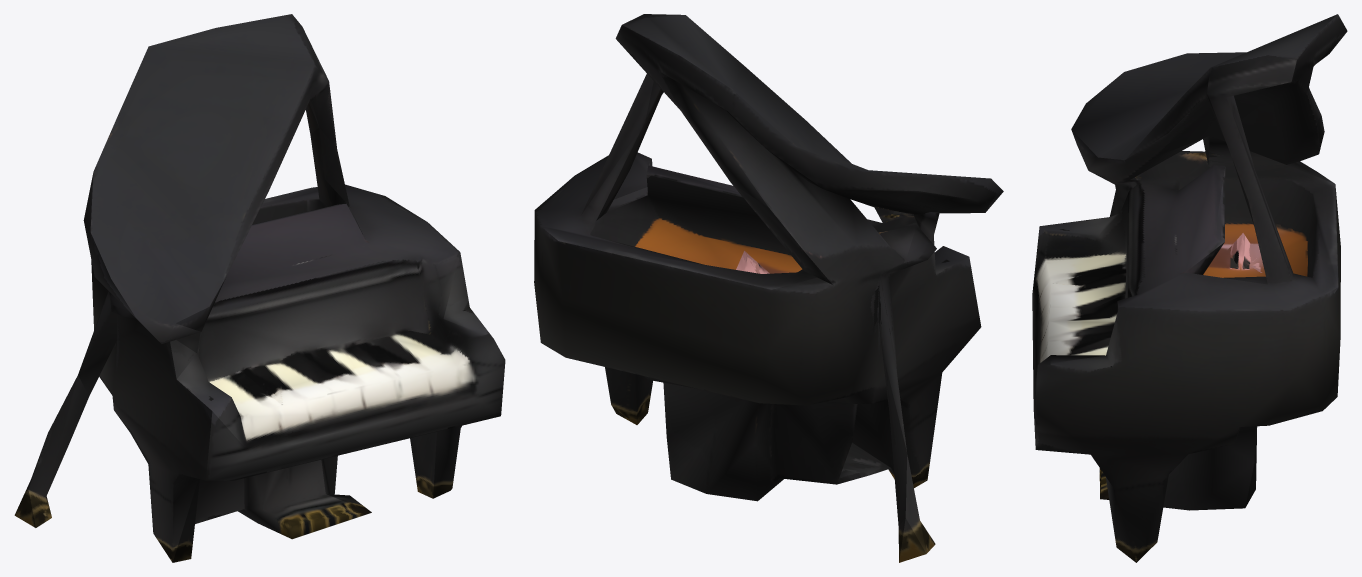
The model's file is piano-toilet.glb.
3 views of the same model, side by side, from view 1: azimuth 30°, elevation 25°; view 2: azimuth 150°, elevation 25°; view 3: azimuth 270°, elevation 25° (orthographic). The views are drawn at different scales.
Parts seen in each view (by area): view 1: geometry_0.001; view 2: geometry_0.001; view 3: geometry_0.001.
Part boxes in pixels (<box>): geometry_0.001: <box>14,14,505,562</box>; geometry_0.001: <box>534,14,1003,562</box>; geometry_0.001: <box>1032,14,1347,562</box>.
Size of the model in its own units: 0.872 by 0.9964 by 0.6109.
Materials: 1 (1 with a texture image).
